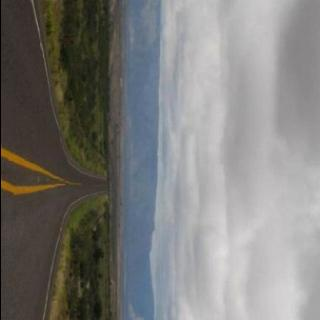Stratocumulus: (169, 0, 320, 320)
